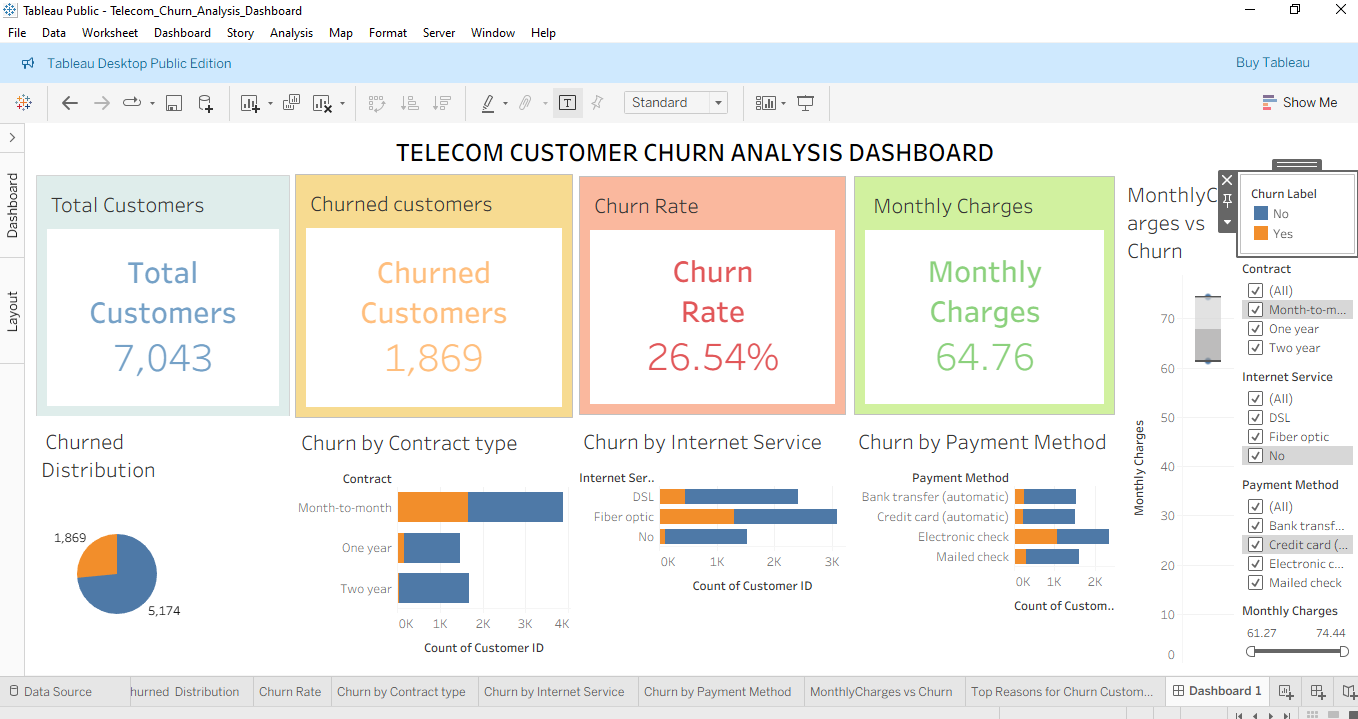

The dashboard page shown, as its layout file describes it:
{"tool":"tableau","page":{"name":"Dashboard 1","canvas":[1000,1000],"units":"permille","ordinal":0},"visuals":[{"type":"title","box":[6,14.5,988.1,74.3]},{"type":"worksheet","title":"Total Customers","mark":"Text","box":[6,88.8,193.7,448.4]},{"type":"worksheet","title":"Churned customers ","mark":"Text","box":[200,88.8,210.5,449.3]},{"type":"worksheet","title":"Churn Rate","mark":"Automatic","box":[410.7,88.8,205.2,448.4]},{"type":"worksheet","title":" Monthly Charges","mark":"Automatic","box":[615.8,88.8,200.6,448.4]},{"type":"worksheet","title":"MonthlyCharges vs Churn","mark":"Circle","rows":["Monthly Charges"],"box":[816.4,88.8,88.8,896.8]},{"type":"legend","title":" Churned  Distribution","param":"[federated.1jarhaz1fz29yg0zwhjf20zc4pjg].[none:Churn Label:nk]","box":[905.2,88.8,88.8,152.2]},{"type":"filter","title":"Churn by Contract type","param":"[federated.1jarhaz1fz29yg0zwhjf20zc4pjg].[none:Contract:nk]","box":[905.2,240.9,88.8,195.7]},{"type":"filter","title":"Churn by Internet Service","param":"[federated.1jarhaz1fz29yg0zwhjf20zc4pjg].[none:Internet Service:nk]","box":[905.2,436.6,88.8,195.7]},{"type":"worksheet","title":" Churned  Distribution","mark":"Pie","box":[6,537.1,193.7,448.4]},{"type":"worksheet","title":"Churn by Internet Service","mark":"Automatic","rows":["Internet Service"],"cols":["CustomerID"],"box":[410.7,537.1,205.2,448.4]},{"type":"worksheet","title":"Churn by Payment Method","mark":"Automatic","rows":["Payment Method"],"cols":["CustomerID"],"box":[615.8,537.1,200.6,448.4]},{"type":"worksheet","title":"Churn by Contract type","mark":"Automatic","rows":["Contract"],"cols":["CustomerID"],"box":[200,538,210.5,447.5]},{"type":"filter","title":"Churn by Payment Method","param":"[federated.1jarhaz1fz29yg0zwhjf20zc4pjg].[none:Payment Method:nk]","box":[905.2,632.2,88.8,228.3]},{"type":"filter","title":"MonthlyCharges vs Churn","param":"[federated.1jarhaz1fz29yg0zwhjf20zc4pjg].[avg:Monthly Charges:qk]","box":[905.2,860.5,88.8,125]}]}

Visuals, with their boxes on the dashboard's canvas, which has no fixed pixel size, in thousandths of its width and height (x1, y1, x2, y2). These are canvas units, not pixel positions in the 1358x719 screenshot, which may show the page scaled, cropped or inside an application window:
title: box=[6, 14, 994, 89]
"Total Customers" worksheet (Text marks): box=[6, 89, 200, 537]
"Churned customers " worksheet (Text marks): box=[200, 89, 410, 538]
"Churn Rate" worksheet: box=[411, 89, 616, 537]
" Monthly Charges" worksheet: box=[616, 89, 816, 537]
"MonthlyCharges vs Churn" worksheet (Circle marks): box=[816, 89, 905, 986]
" Churned  Distribution" legend: box=[905, 89, 994, 241]
"Churn by Contract type" filter: box=[905, 241, 994, 437]
"Churn by Internet Service" filter: box=[905, 437, 994, 632]
" Churned  Distribution" worksheet (Pie marks): box=[6, 537, 200, 986]
"Churn by Internet Service" worksheet: box=[411, 537, 616, 986]
"Churn by Payment Method" worksheet: box=[616, 537, 816, 986]
"Churn by Contract type" worksheet: box=[200, 538, 410, 986]
"Churn by Payment Method" filter: box=[905, 632, 994, 860]
"MonthlyCharges vs Churn" filter: box=[905, 860, 994, 986]
